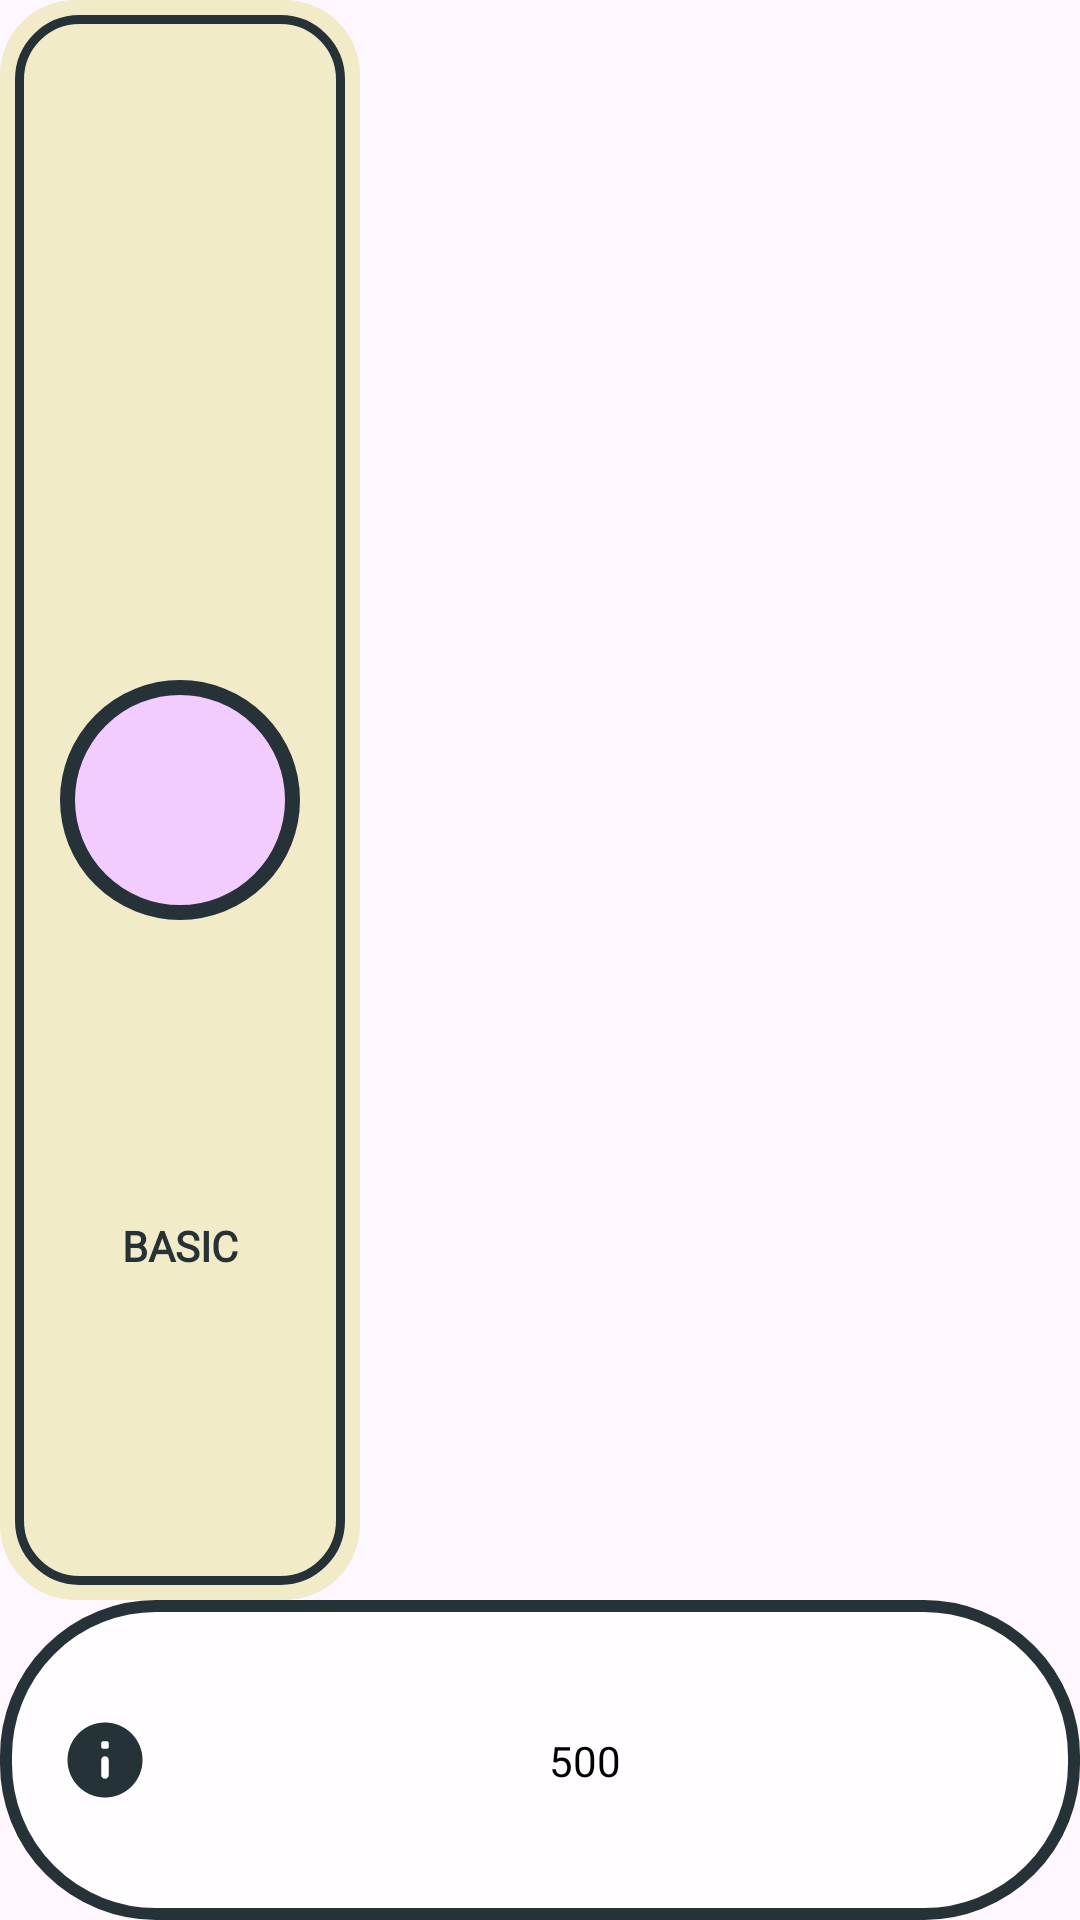

Icons on this 1080 x 1920 Android screen, each with the point to tap as point (x, y):
custom faq: point (105, 1760)
